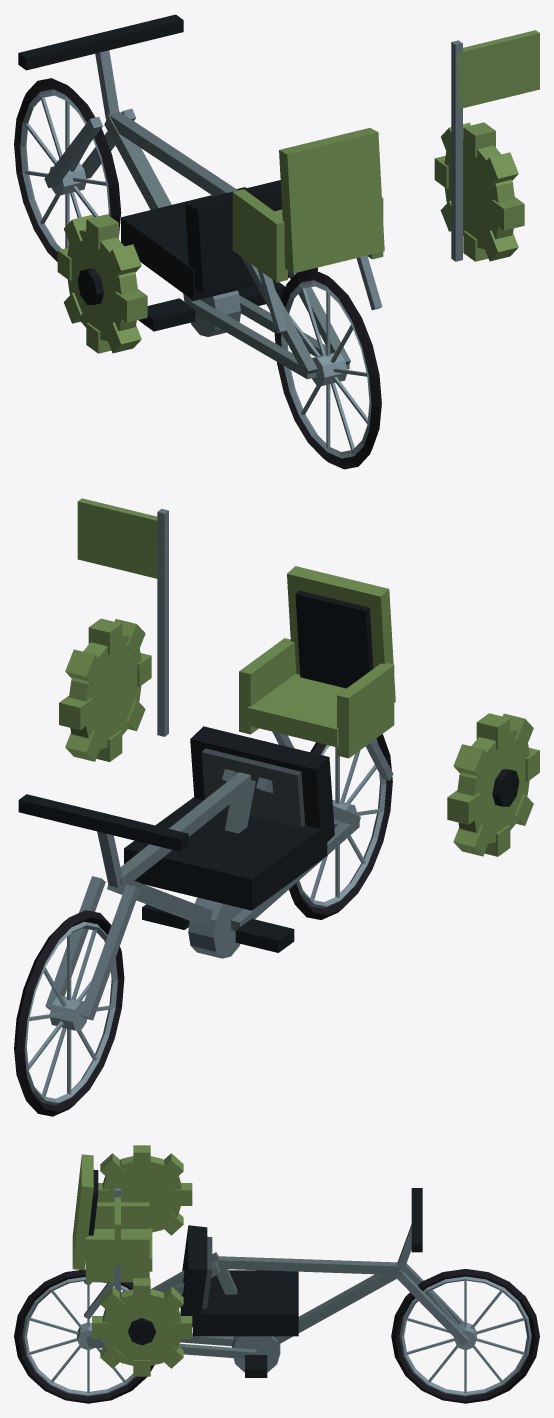
The model's file is kart.glb.
3 views of the same model, one above another, from view 1: azimuth 30°, elevation 25°; view 2: azimuth 150°, elevation 25°; view 3: azimuth 270°, elevation 25° (orthographic). The views are drawn at different scales.
Visible parts, largest first — view 1: identity-motorbike-bicycle-diamond-frame-and-empty-rear-chil, identity-motorbike-motif-gears, identity-motorbike-driver-cockpit, wheel-rear-center, identity-motorbike-motif-flag, wheel-front-center; view 2: identity-motorbike-bicycle-diamond-frame-and-empty-rear-chil, identity-motorbike-driver-cockpit, identity-motorbike-motif-gears, wheel-front-center, identity-motorbike-motif-flag, wheel-rear-center; view 3: identity-motorbike-bicycle-diamond-frame-and-empty-rear-chil, identity-motorbike-motif-gears, identity-motorbike-driver-cockpit, wheel-front-center, wheel-rear-center, identity-motorbike-motif-flag.
Boxes of the visible parts, x1=… form: identity-motorbike-bicycle-diamond-frame-and-empty-rear-chil: x1=18, y1=14, x2=384, y2=379; identity-motorbike-motif-gears: x1=57, y1=122, x2=524, y2=353; identity-motorbike-driver-cockpit: x1=121, y1=180, x2=317, y2=300; wheel-rear-center: x1=274, y1=269, x2=381, y2=469; identity-motorbike-motif-flag: x1=451, y1=30, x2=539, y2=261; wheel-front-center: x1=14, y1=78, x2=121, y2=261; identity-motorbike-bicycle-diamond-frame-and-empty-rear-chil: x1=18, y1=566, x2=395, y2=1020; identity-motorbike-driver-cockpit: x1=124, y1=726, x2=334, y2=910; identity-motorbike-motif-gears: x1=59, y1=618, x2=539, y2=856; wheel-front-center: x1=14, y1=910, x2=124, y2=1116; identity-motorbike-motif-flag: x1=77, y1=498, x2=168, y2=736; wheel-rear-center: x1=289, y1=734, x2=392, y2=919; identity-motorbike-bicycle-diamond-frame-and-empty-rear-chil: x1=72, y1=1154, x2=468, y2=1377; identity-motorbike-motif-gears: x1=92, y1=1145, x2=192, y2=1376; identity-motorbike-driver-cockpit: x1=180, y1=1225, x2=298, y2=1336; wheel-front-center: x1=391, y1=1269, x2=539, y2=1403; wheel-rear-center: x1=14, y1=1269, x2=154, y2=1403; identity-motorbike-motif-flag: x1=114, y1=1188, x2=120, y2=1292.
Size of the model in its own units: 2.1 by 1.7 by 3.04.
